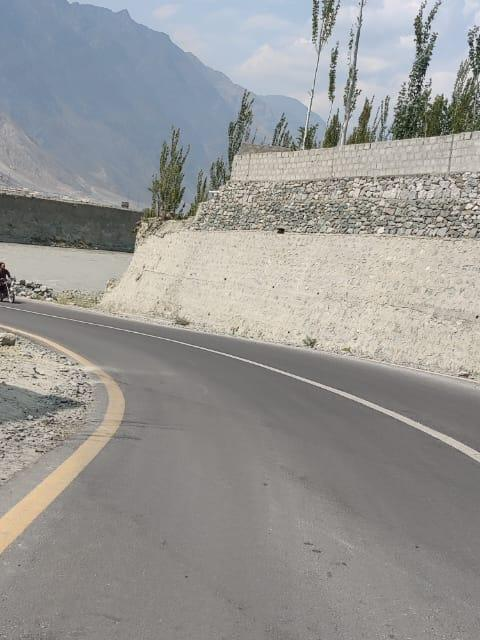left_turn: (0, 229, 430, 426)
